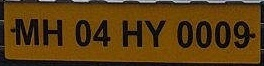character: (14, 16, 39, 45), (41, 16, 63, 47), (143, 19, 166, 47), (121, 18, 142, 47), (92, 18, 110, 46), (175, 19, 192, 48), (195, 20, 212, 48), (233, 20, 249, 49), (214, 20, 230, 48), (75, 18, 90, 47)
